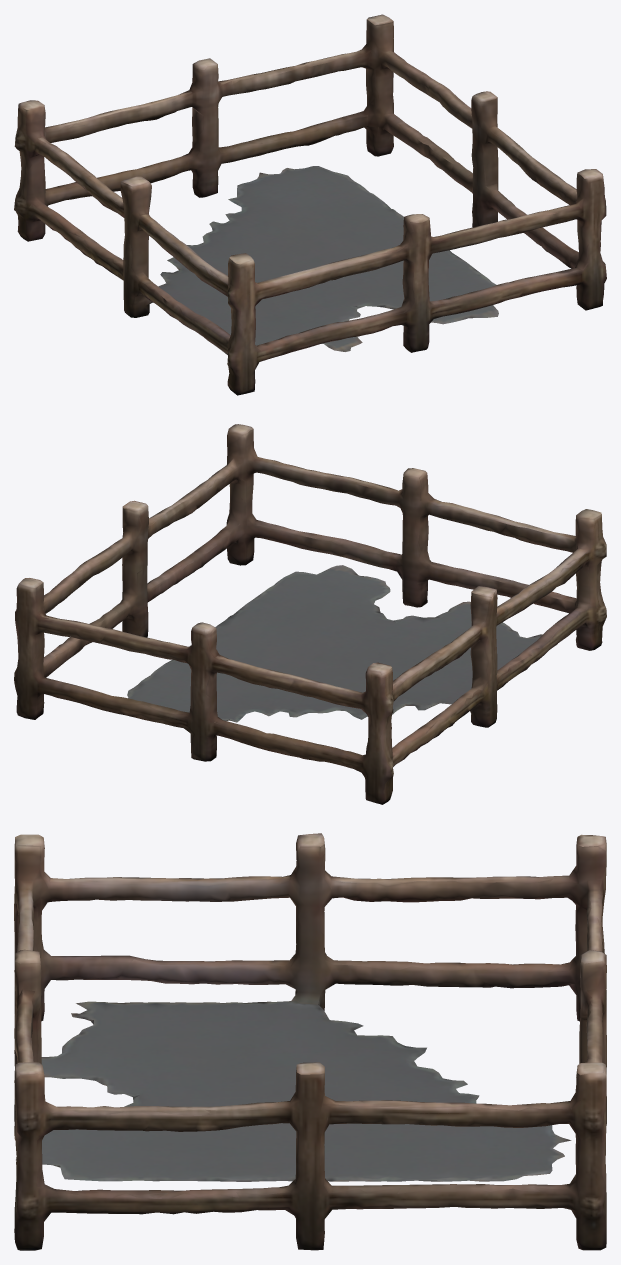
The model's file is fenced_yard.glb.
3 renders of one model, top to bottom at view 1: azimuth 30°, elevation 25°; view 2: azimuth 150°, elevation 25°; view 3: azimuth 270°, elevation 25°, orthographic. The views are drawn at different scales.
Parts seen in each view (by area): view 1: Fence; view 2: Fence; view 3: Fence.
Boxes of the visible parts, <box> form: Fence: <box>14,14,606,395</box>; Fence: <box>14,424,606,804</box>; Fence: <box>14,833,606,1250</box>.
Size of the model in its own units: 8.83 by 3 by 8.94.
Materials: 1 (1 with a texture image).
